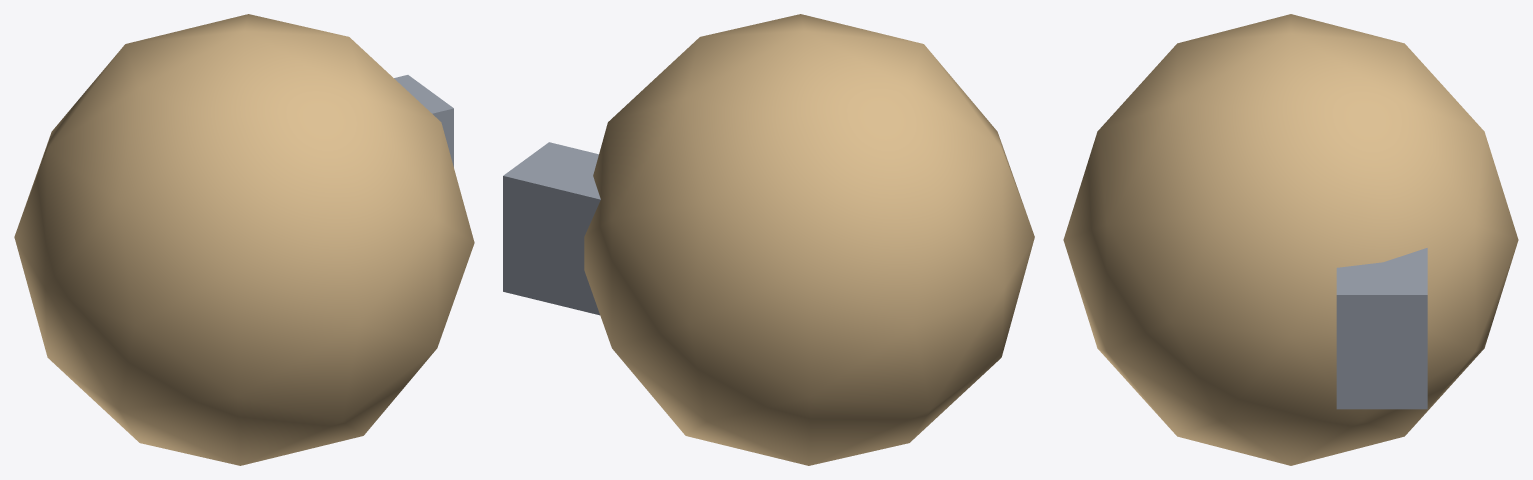
The model's file is debris.pile.glb.
3 views of the same model, side by side, from view 1: azimuth 30°, elevation 25°; view 2: azimuth 150°, elevation 25°; view 3: azimuth 270°, elevation 25° (orthographic).
Visible parts, largest first — view 1: debris.pile; view 2: debris.pile; view 3: debris.pile.
Boxes of the visible parts, <box> form: debris.pile: <box>14,14,474,465</box>; debris.pile: <box>503,14,1034,465</box>; debris.pile: <box>1063,14,1518,465</box>.
Bounding box in the file's own units: 0.975 × 0.9 × 0.9.
